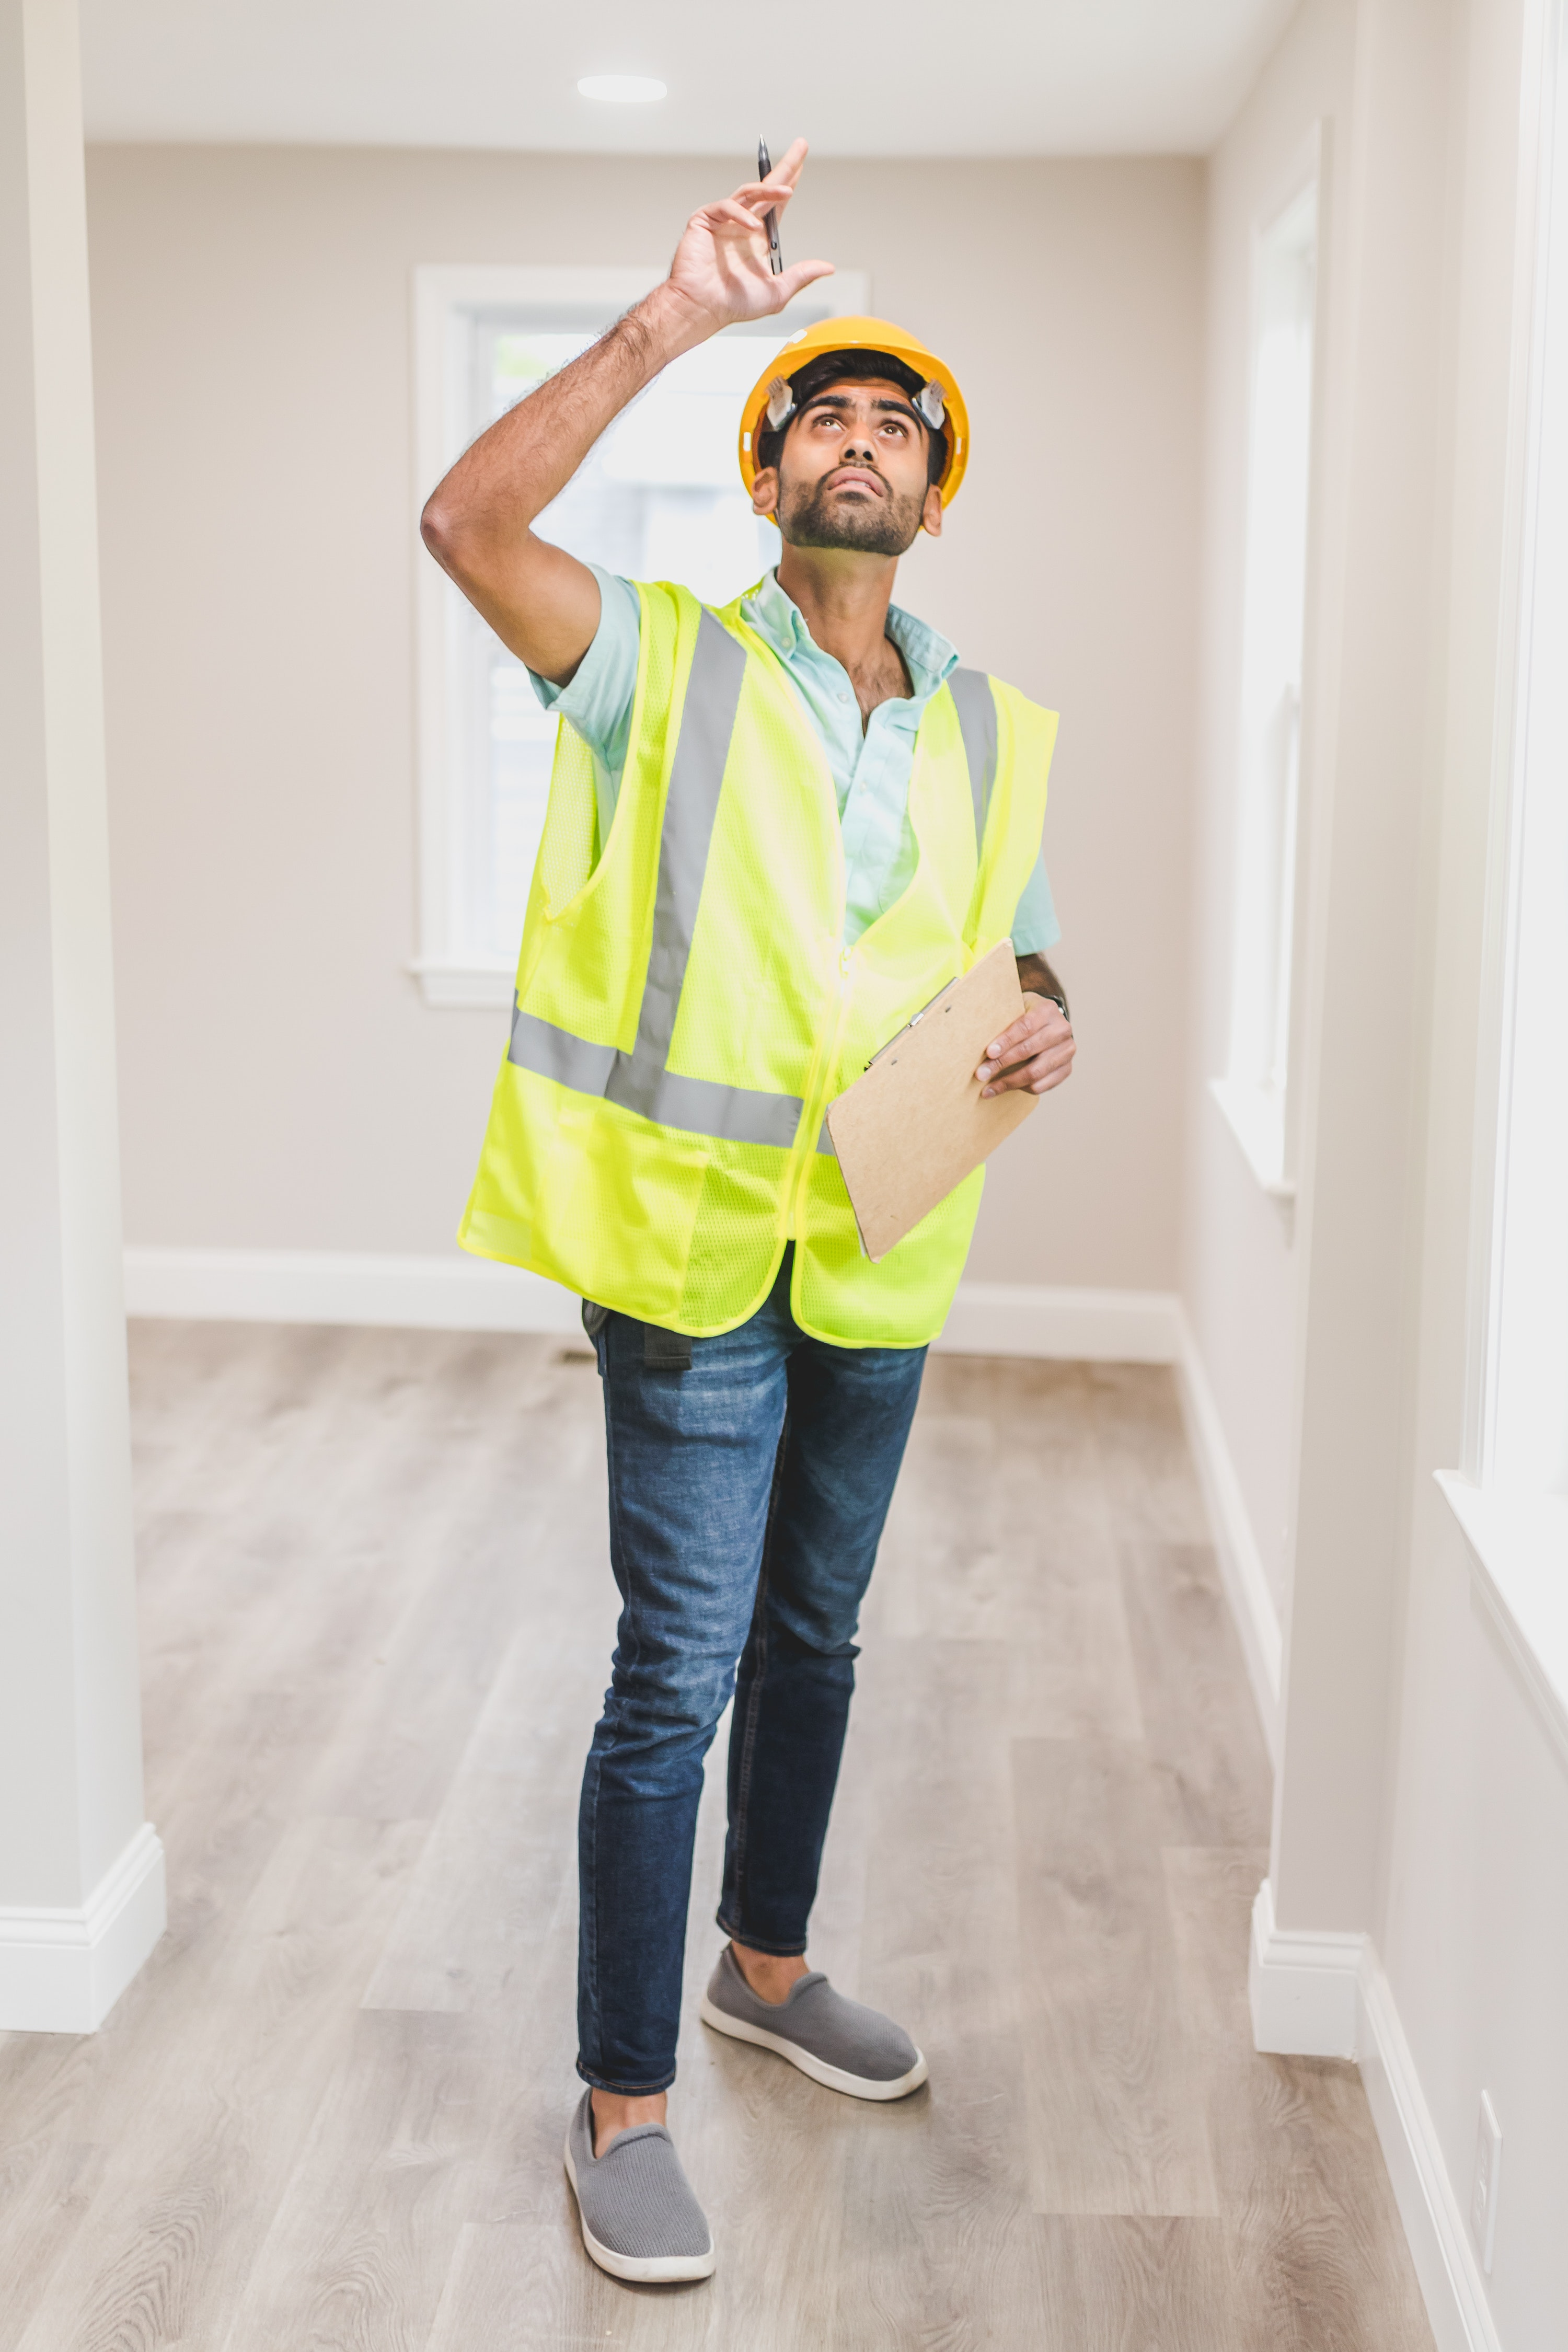Helmet: (735, 313, 978, 595)
Reflective vest: (453, 567, 1067, 1356)
